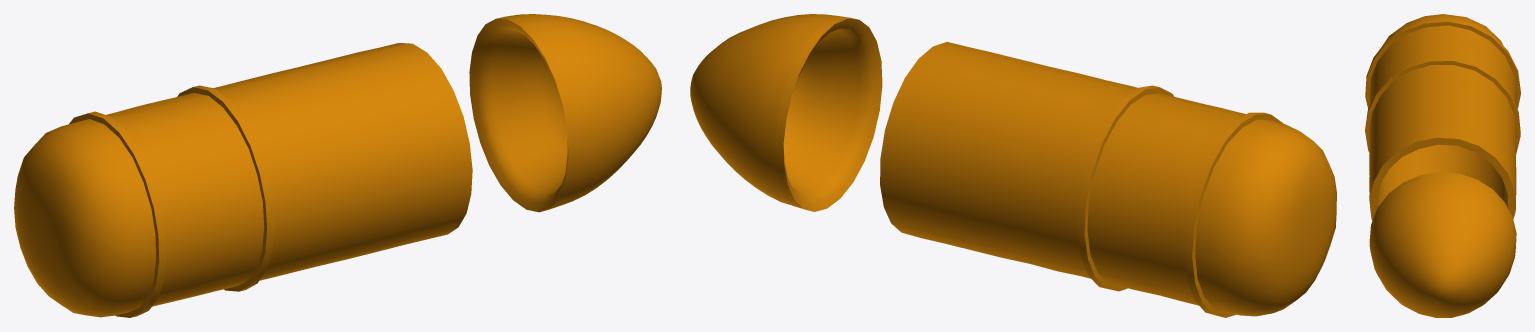
Rendered from TidalTurbine_Nacelle.dae.
3 renders of one model, left to right at view 1: azimuth 30°, elevation 25°; view 2: azimuth 150°, elevation 25°; view 3: azimuth 270°, elevation 25°, orthographic. The views are drawn at different scales.
Parts seen in each view (by area): view 1: TidalTurbine_Nacelle; view 2: TidalTurbine_Nacelle; view 3: TidalTurbine_Nacelle.
Boxes of the visible parts, x1,y1,x2,y2 form: TidalTurbine_Nacelle: [14, 14, 661, 317]; TidalTurbine_Nacelle: [690, 14, 1336, 317]; TidalTurbine_Nacelle: [1365, 14, 1520, 317].
Size of the model in its own units: 6.15 by 1.81 by 1.81.
